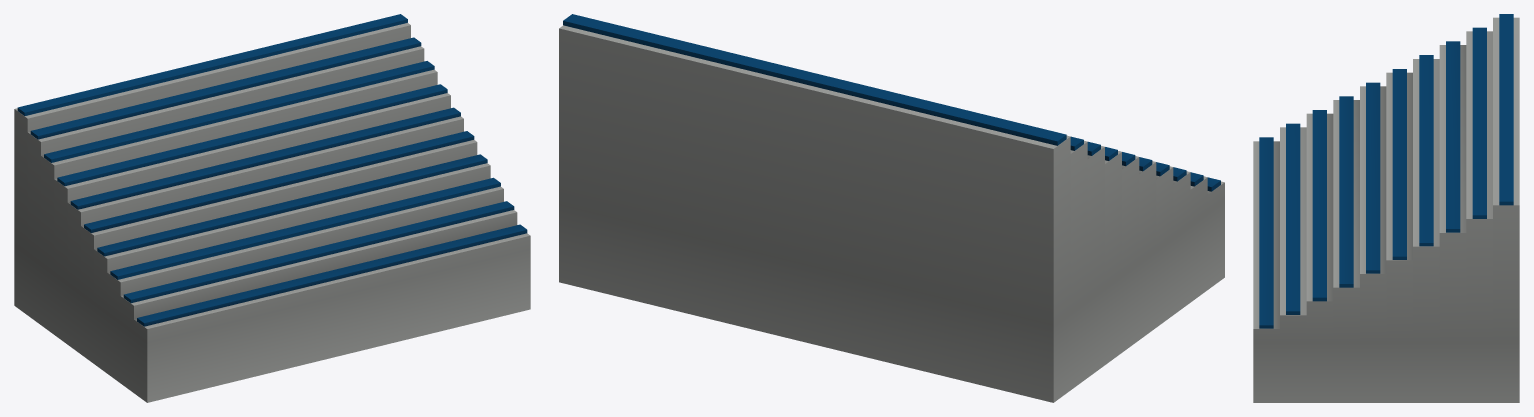
The model's file is temporary-bleacher.glb.
3 views of the same model, side by side, from view 1: azimuth 30°, elevation 25°; view 2: azimuth 150°, elevation 25°; view 3: azimuth 270°, elevation 25° (orthographic). The views are drawn at different scales.
Parts seen in each view (by area): view 1: temporary-bleacher; view 2: temporary-bleacher; view 3: temporary-bleacher.
Boxes of the visible parts, x1,y1,x2,y2 form: temporary-bleacher: (14,14,530,402); temporary-bleacher: (559,14,1224,402); temporary-bleacher: (1253,14,1519,402).
Size of the model in its own units: 20 by 10 by 12.
